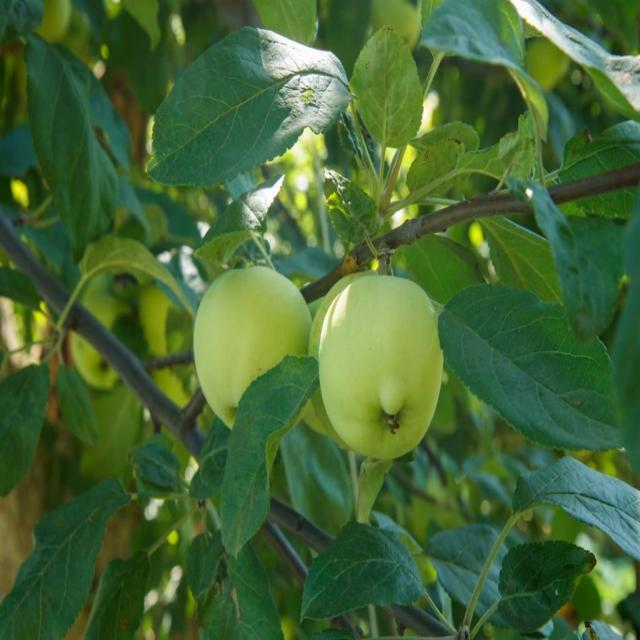Green Apple: (319, 268, 457, 455), (200, 274, 318, 431)
